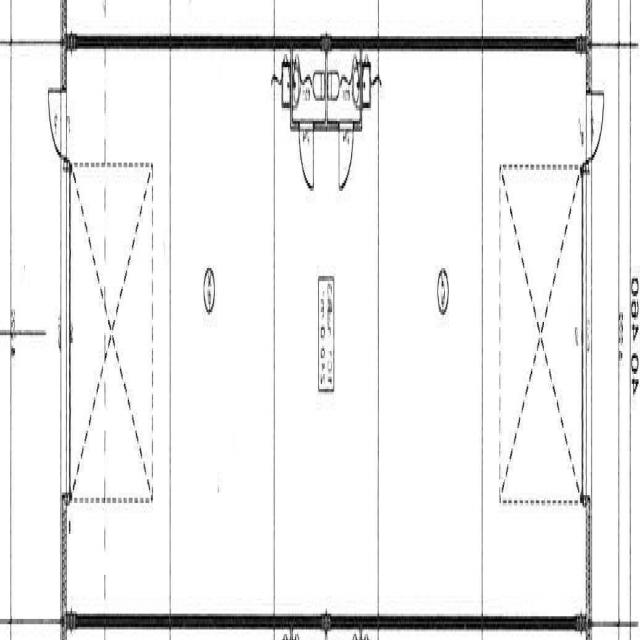door: (44, 90, 67, 160), (586, 94, 607, 158), (79, 462, 94, 536), (556, 469, 569, 532)
